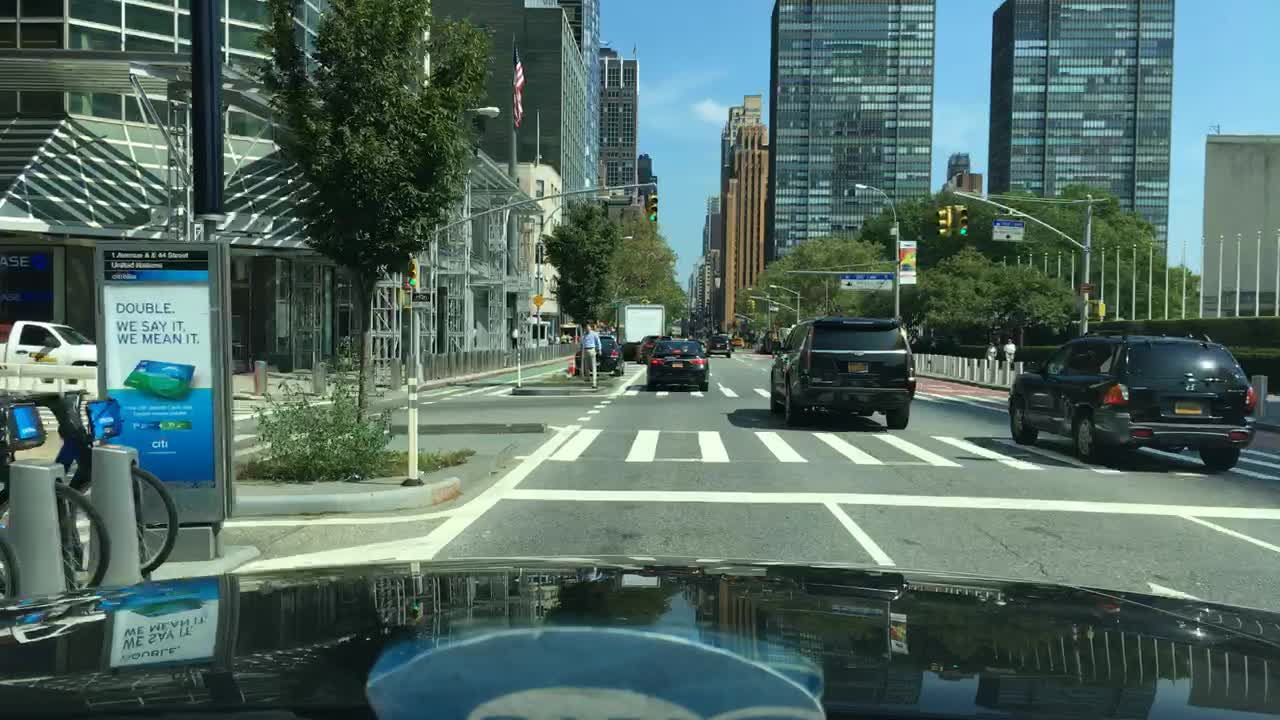bike: (1, 381, 178, 575), (0, 400, 111, 599)
car: (1009, 325, 1257, 472), (768, 312, 918, 429), (646, 338, 714, 393), (572, 334, 624, 379), (630, 333, 662, 359), (706, 328, 732, 359), (729, 333, 747, 348), (666, 324, 679, 337)
person: (576, 319, 600, 390), (508, 323, 519, 347), (1005, 334, 1015, 360), (984, 341, 994, 359), (548, 333, 554, 343)
traffic light: (955, 205, 970, 235), (936, 203, 951, 233), (407, 256, 419, 289), (1087, 297, 1104, 316), (646, 194, 655, 225), (747, 297, 752, 310)
traffic sign: (840, 270, 893, 289), (992, 218, 1025, 243), (487, 221, 505, 251), (531, 292, 545, 306)
truck: (1, 316, 98, 366), (613, 301, 665, 356)
